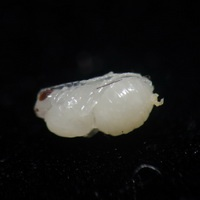insect: (34, 72, 163, 136)
